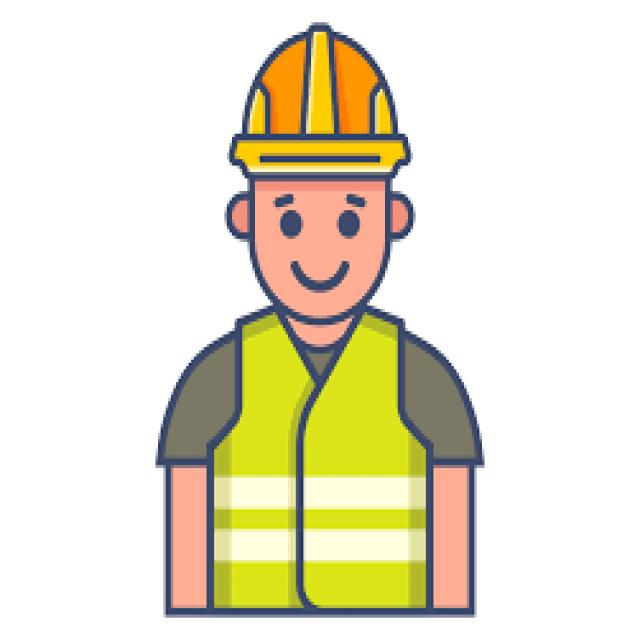Reflective-Jacket: (138, 306, 484, 614)
Safety-Helmet: (211, 17, 450, 182)
